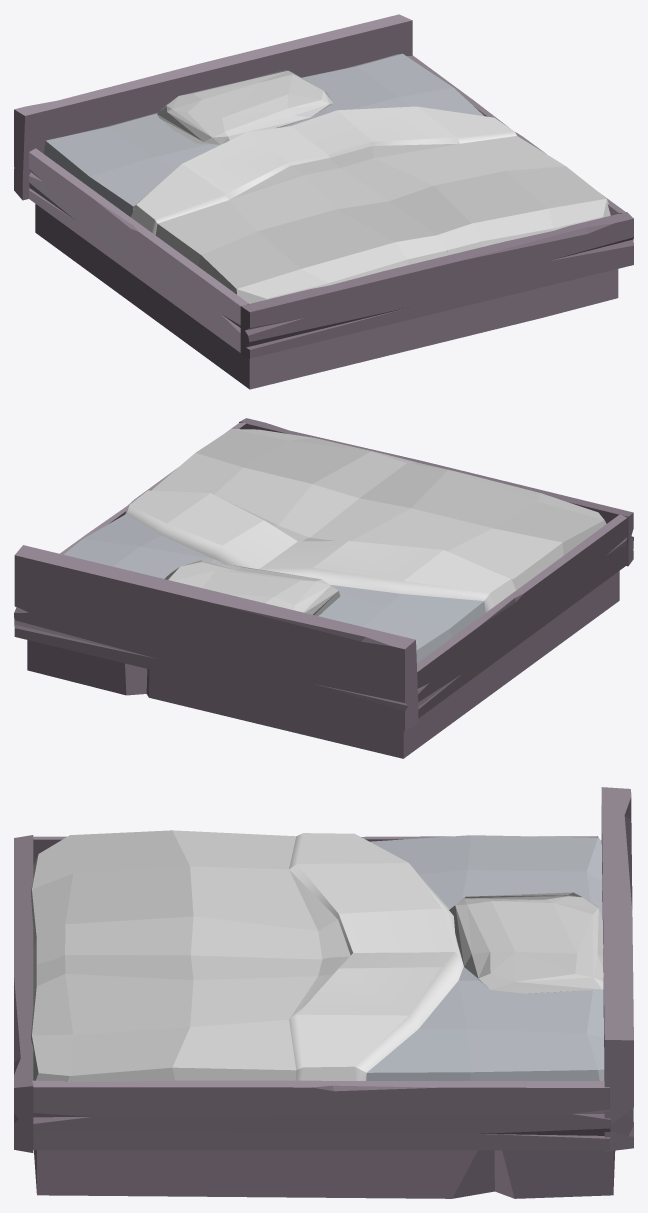
Rendered from Bed_Floore_bubbel2.fbx.
The picture shows the model from 3 angles, top to bottom: view 1: azimuth 30°, elevation 25°; view 2: azimuth 150°, elevation 25°; view 3: azimuth 270°, elevation 25°; orthographic projection. The views are drawn at different scales.
Parts seen in each view (by area): view 1: SM_Prop_DubbleBed_floorBlueV2; view 2: SM_Prop_DubbleBed_floorBlueV2; view 3: SM_Prop_DubbleBed_floorBlueV2.
Boxes of the visible parts, x1,y1,x2,y2 form: SM_Prop_DubbleBed_floorBlueV2: (14, 14, 633, 389); SM_Prop_DubbleBed_floorBlueV2: (14, 418, 633, 758); SM_Prop_DubbleBed_floorBlueV2: (14, 787, 633, 1198).
Size of the model in its own units: 2.04 by 0.6096 by 2.09.
